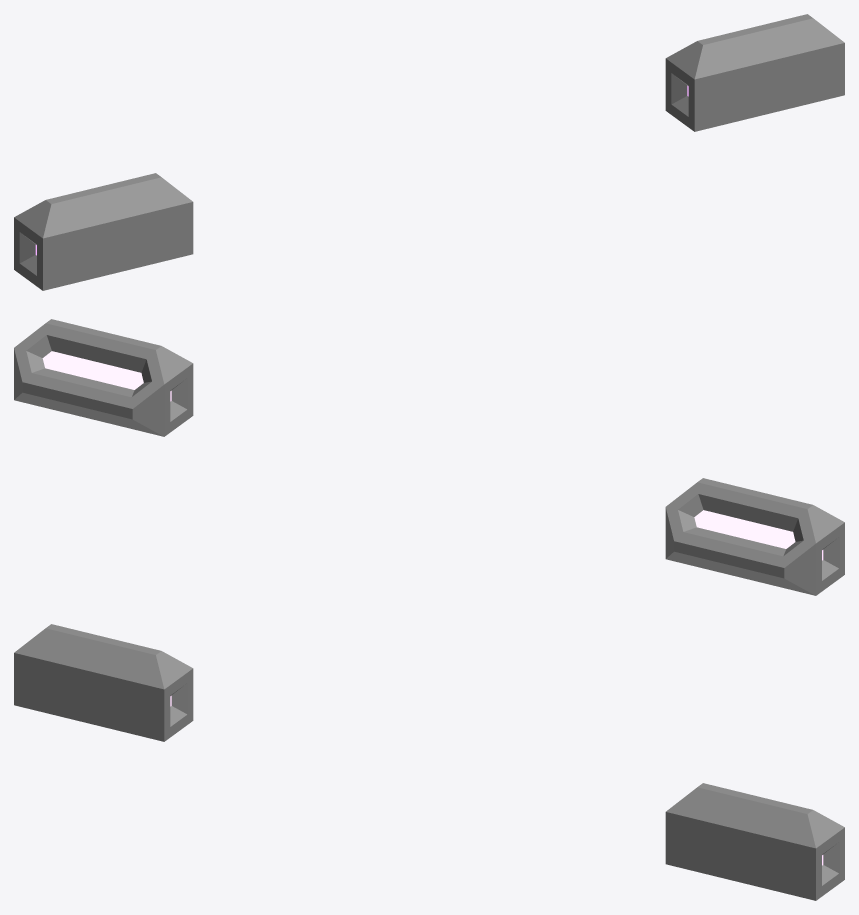
File: RailUpConnect.FBX
3 renders of one model, top to bottom at view 1: azimuth 30°, elevation 25°; view 2: azimuth 150°, elevation 25°; view 3: azimuth 330°, elevation 25°, orthographic.
Visible parts, largest first — view 1: RailUpConnect_high; view 2: RailUpConnect_high; view 3: RailUpConnect_high.
Boxes of the visible parts, x1,y1,x2,y2 form: RailUpConnect_high: [14, 14, 844, 290]; RailUpConnect_high: [14, 319, 844, 595]; RailUpConnect_high: [14, 624, 844, 900].
Bounding box in the file's own units: 80 × 7 × 7.
